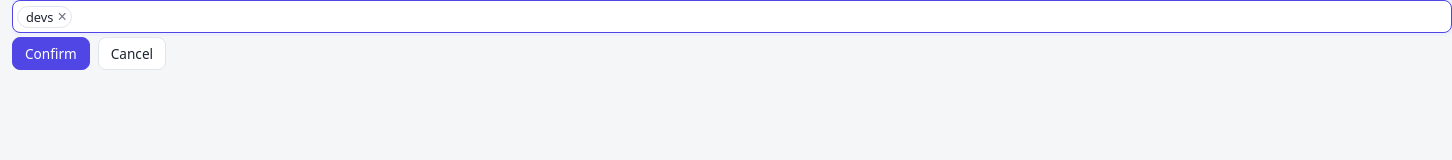
Test: chips render draft groups and x removes
Expected: the element with test id "groups-chip-alice-devs" shows "devs", [26,8,54,26]
Click the button with test id "groups-remove-alice-devs": (62, 16) [58,8,67,24]
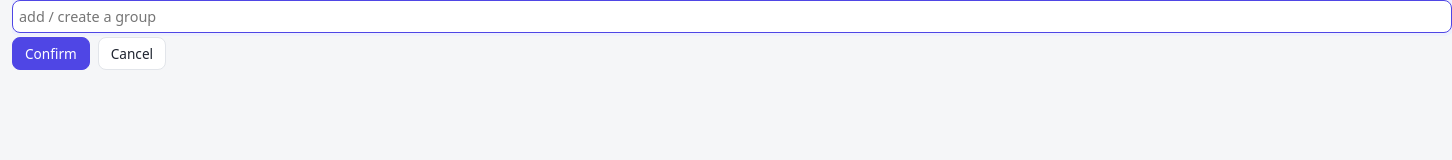
Result: the element with test id "groups-chip-alice-devs" is gone
